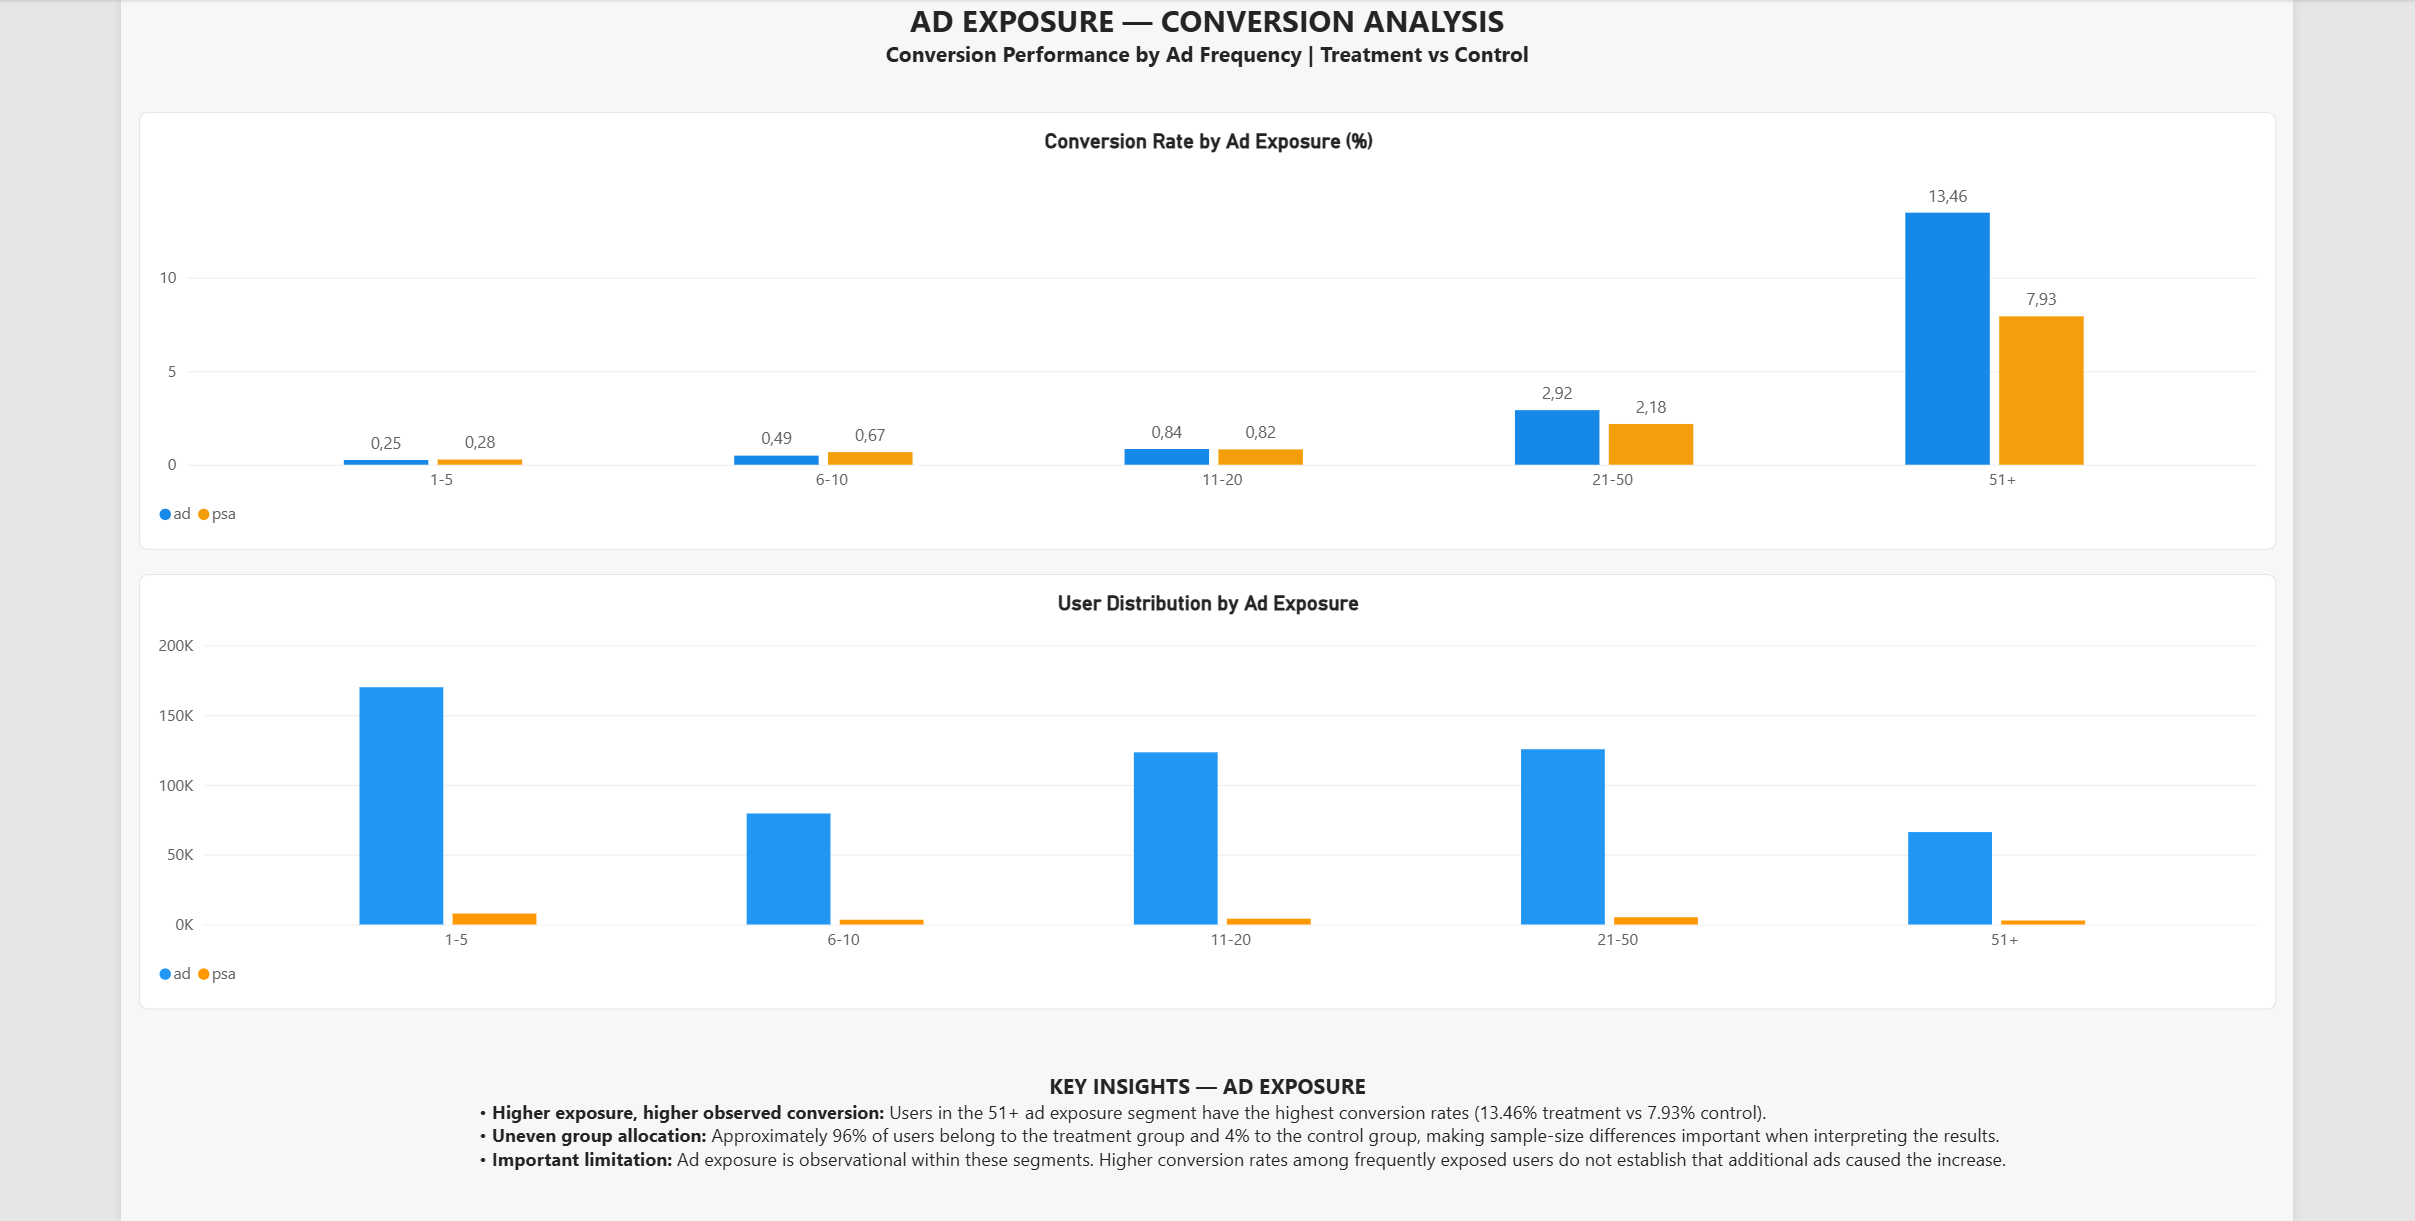

Layout of this report page (visuals, bound fields, positions):
{"tool":"powerbi","page":{"name":"02 | Ad Exposure Analysis","canvas":[1920,1080],"ordinal":1},"visuals":[{"type":"textbox","box":[15.9,0,1888.3,113.1],"z":0},{"type":"clusteredColumnChart","title":"Conversion Rate by Ad Exposure (%)","fields":{"Category":["ab_test_exposure.exposure_group"],"Series":["ab_test_exposure.test_group"],"Y":["Sum(ab_test_exposure.conversion_rate_pct)"]},"box":[15.7,100.1,1888.6,386.7],"z":1000},{"type":"clusteredColumnChart","title":"User Distribution by Ad Exposure","fields":{"Category":["ab_test_exposure.exposure_group"],"Series":["ab_test_exposure.test_group"],"Y":["Sum(ab_test_exposure.users)"]},"box":[15.7,508.5,1888.6,384.8],"z":2000},{"type":"textbox","box":[15.7,947.2,1888.6,124.7],"z":3000}]}

Visuals, with their boxes on the page's 1920x1080 design canvas (x1, y1, x2, y2). These are canvas units, not pixel positions in the 2415x1221 screenshot, which may show the page scaled, cropped or inside an application window:
textbox: left=16, top=0, right=1904, bottom=113
"Conversion Rate by Ad Exposure (%)" clusteredColumnChart: left=16, top=100, right=1904, bottom=487
"User Distribution by Ad Exposure" clusteredColumnChart: left=16, top=508, right=1904, bottom=893
textbox: left=16, top=947, right=1904, bottom=1072
